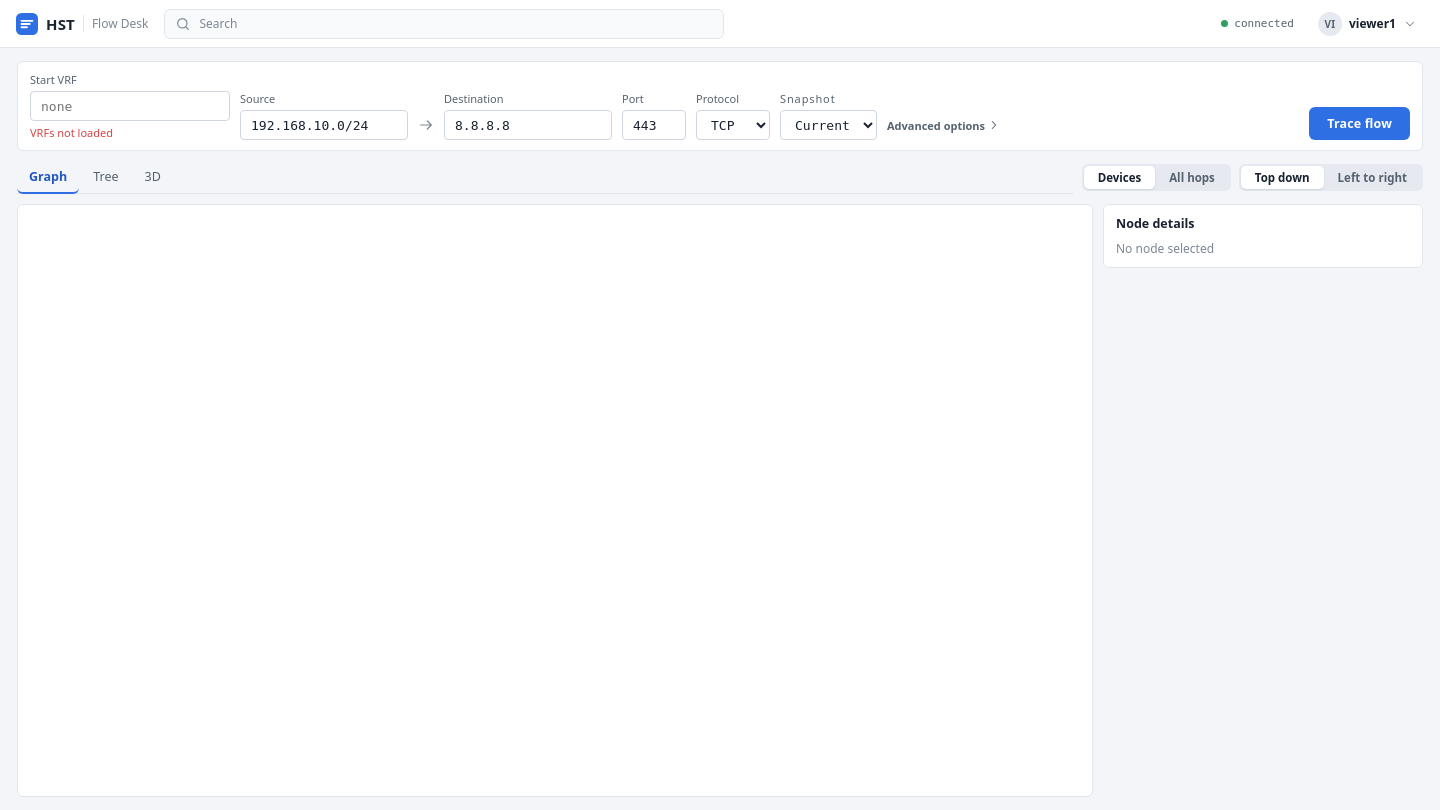
CommandPalette objects › opens all of the matches in Explore's Search tab
Click the button "Search" at (218, 24), box [164,8,724,38]
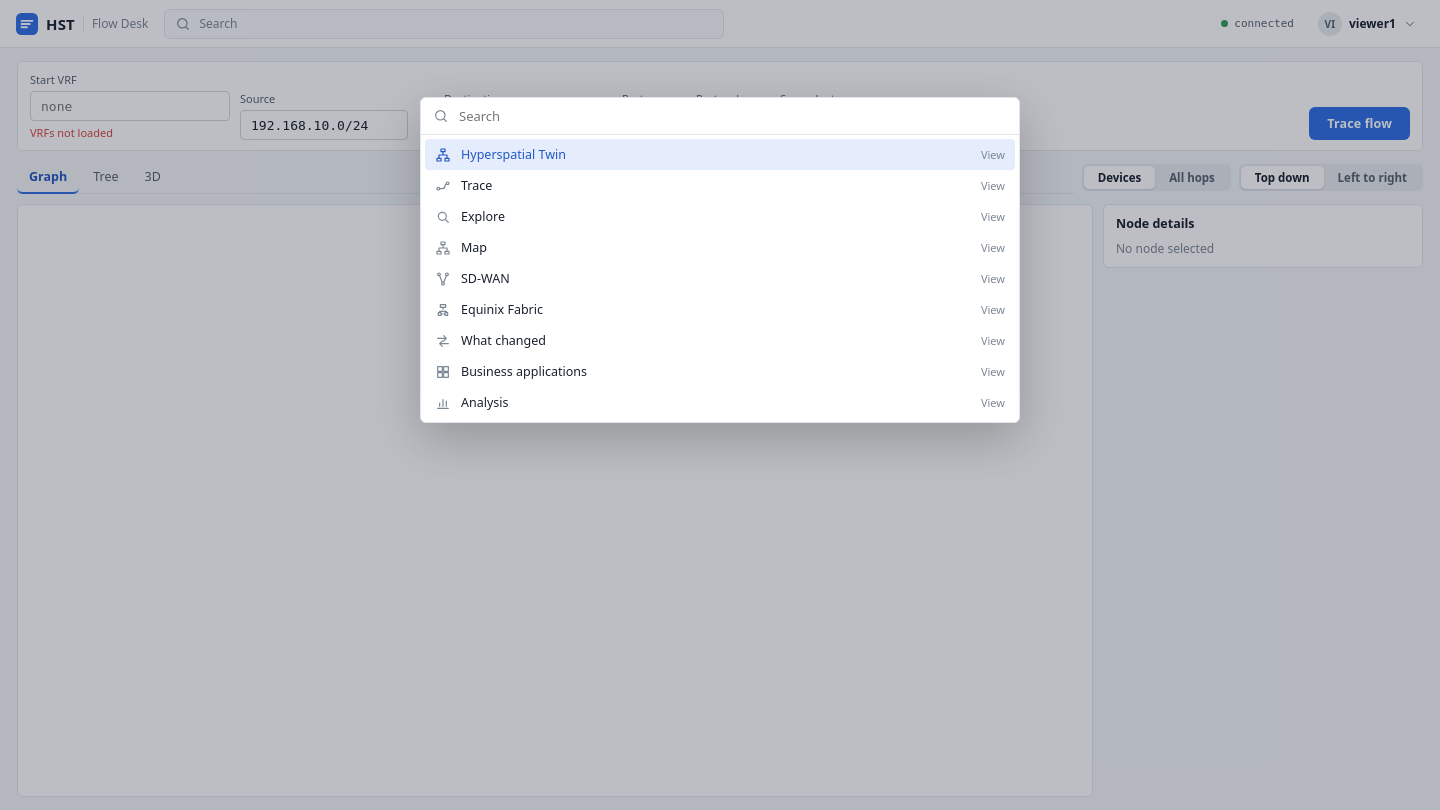
Type "10.1.2" into the dropdown named "Search views and queries" at (732, 116), box [457,106,1007,126]
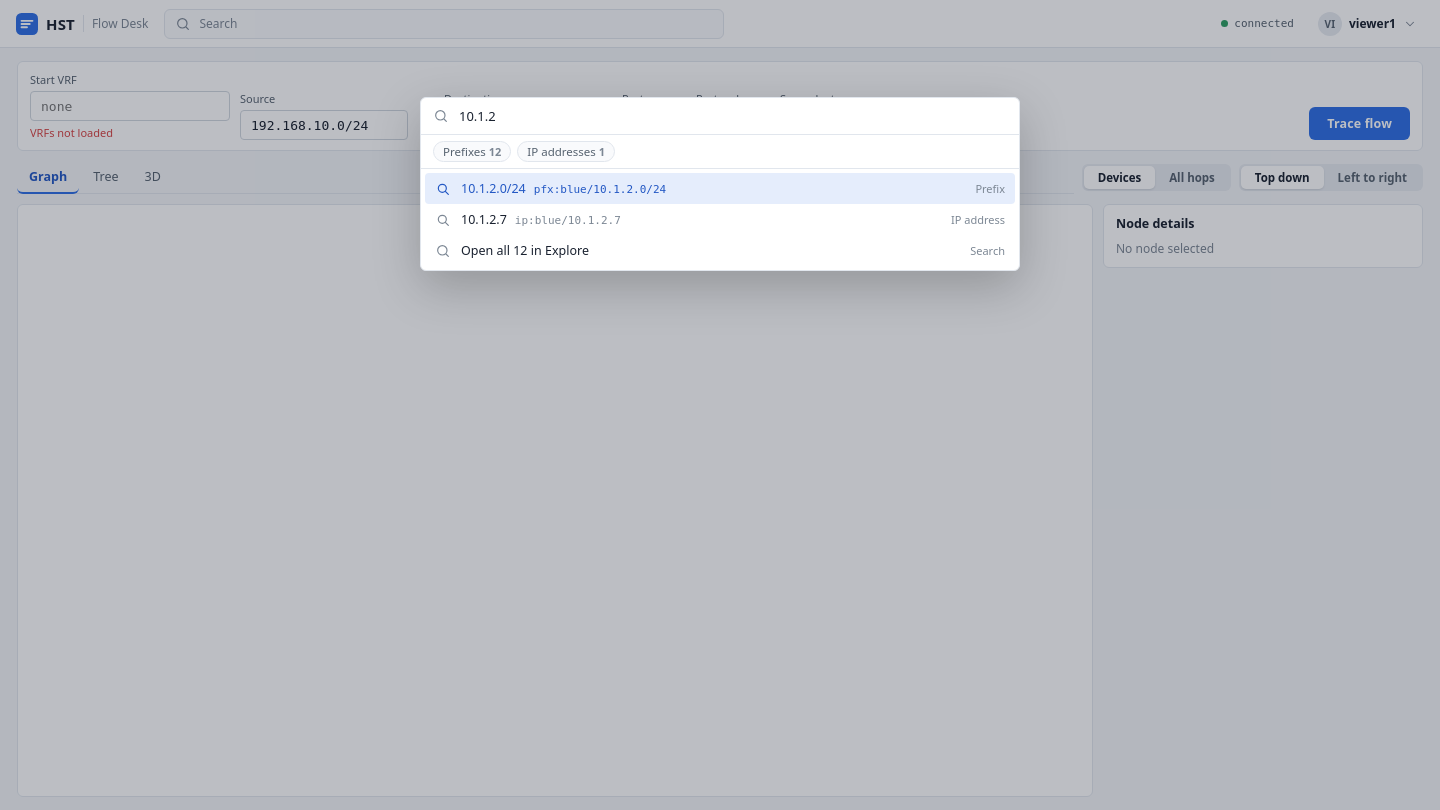
Click the option "Open all 12 in Explore Search" at (525, 251), box [435,242,1005,259]
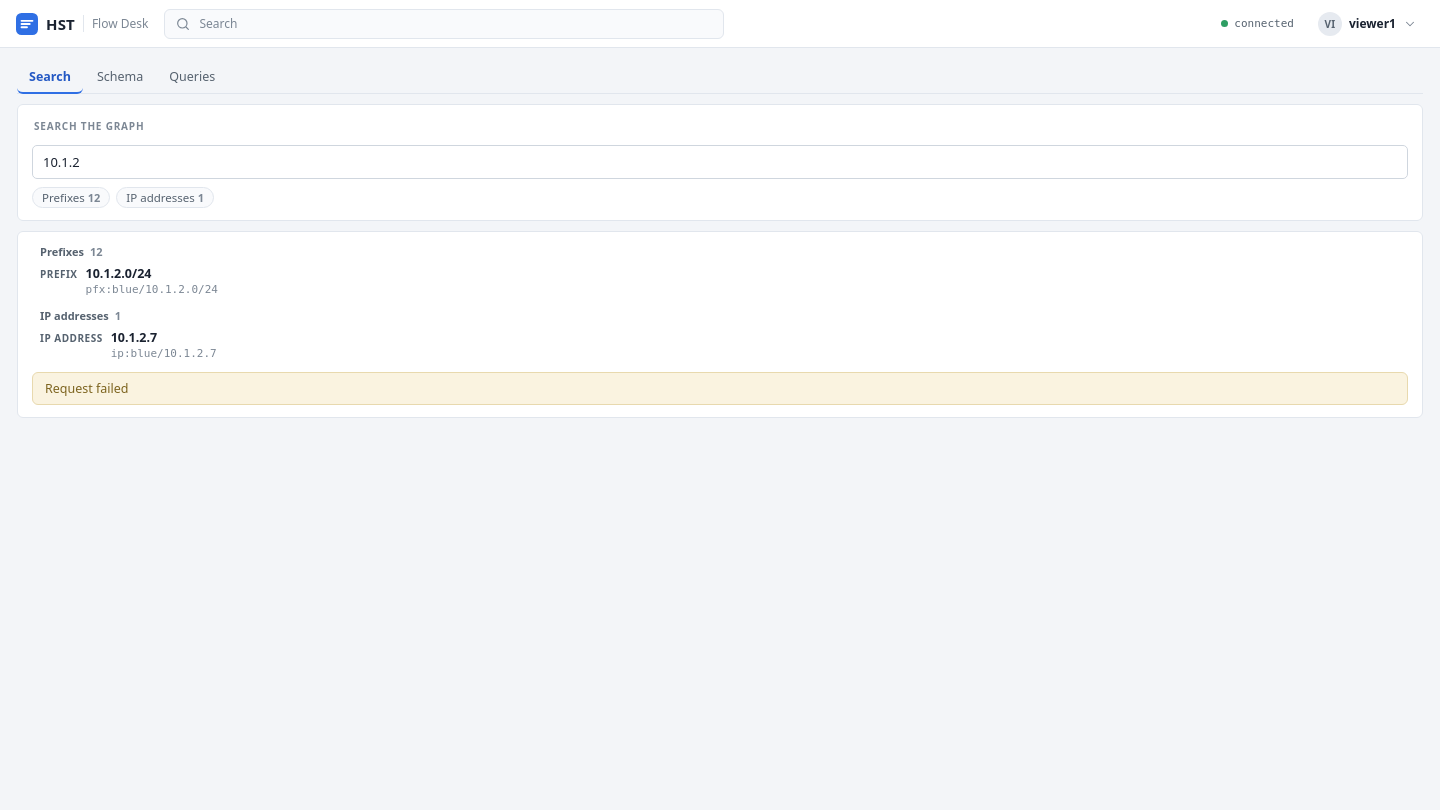
expect the search field labelled "Search the graph" holds "10.1.2": met, box [32,145,1408,179]
expect the button "IP address 10.1.2.7 ip:blue/10.1.2.7" is shown: met, box [32,325,1408,364]
expect the text "Node details" is gone: met
